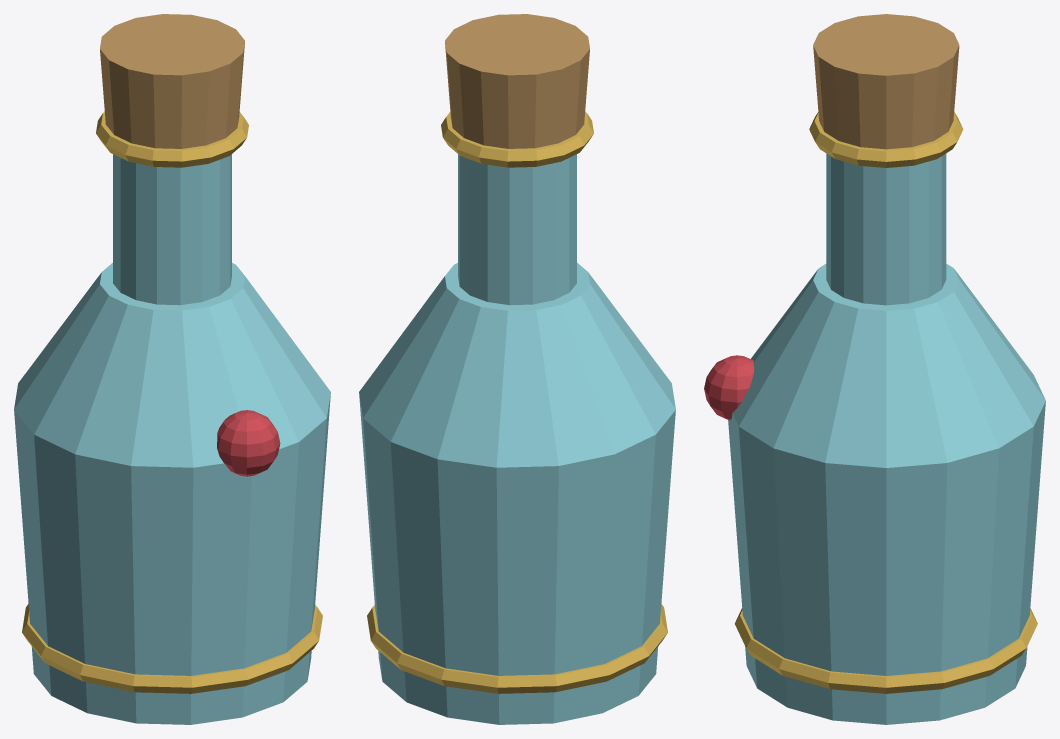
The model's file is potion.glb.
3 renders of one model, left to right at view 1: azimuth 30°, elevation 25°; view 2: azimuth 150°, elevation 25°; view 3: azimuth 270°, elevation 25°, orthographic.
Visible parts, largest first — view 1: glass_base, glass_shoulder, cork_stopper, glass_neck, lower_band, wax_seal, lip; view 2: glass_base, glass_shoulder, cork_stopper, glass_neck, lower_band, lip; view 3: glass_base, glass_shoulder, cork_stopper, glass_neck, lower_band, lip, wax_seal.
Part boxes in pixels (left/top/right/bottom): glass_base: left=14, top=393, right=330, bottom=724; glass_shoulder: left=14, top=263, right=330, bottom=467; cork_stopper: left=100, top=14, right=244, bottom=148; glass_neck: left=113, top=154, right=231, bottom=305; lower_band: left=22, top=603, right=322, bottom=693; wax_seal: left=217, top=410, right=280, bottom=476; lip: left=96, top=112, right=248, bottom=167; glass_base: left=359, top=393, right=675, bottom=724; glass_shoulder: left=359, top=263, right=675, bottom=467; cork_stopper: left=445, top=14, right=589, bottom=148; glass_neck: left=458, top=154, right=576, bottom=305; lower_band: left=367, top=603, right=667, bottom=693; lip: left=441, top=112, right=593, bottom=167; glass_base: left=728, top=401, right=1045, bottom=724; glass_shoulder: left=732, top=263, right=1045, bottom=467; cork_stopper: left=813, top=14, right=959, bottom=149; glass_neck: left=826, top=153, right=946, bottom=305; lower_band: left=734, top=608, right=1037, bottom=693; lip: left=809, top=112, right=963, bottom=167; wax_seal: left=704, top=355, right=754, bottom=420.
Bounding box in the file's own units: 0.24 × 0.515 × 0.257.
